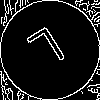L: (25, 25, 73, 79)
